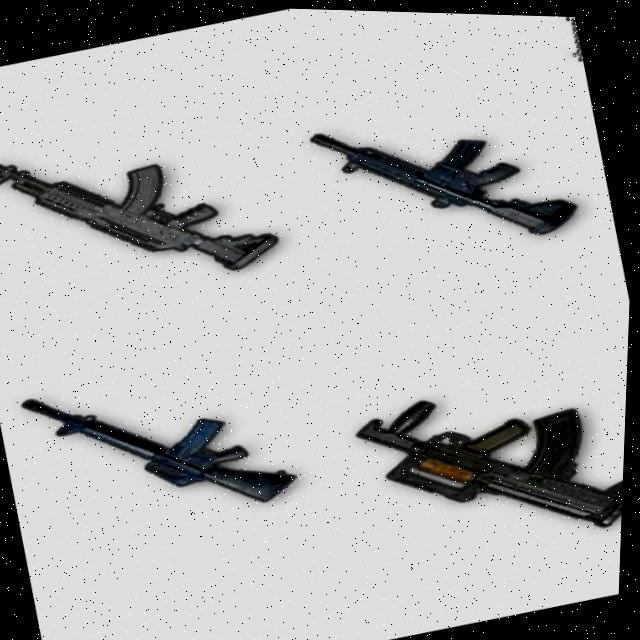firearm: (349, 345, 630, 575), (0, 99, 290, 321), (17, 339, 310, 551), (303, 75, 588, 279)
